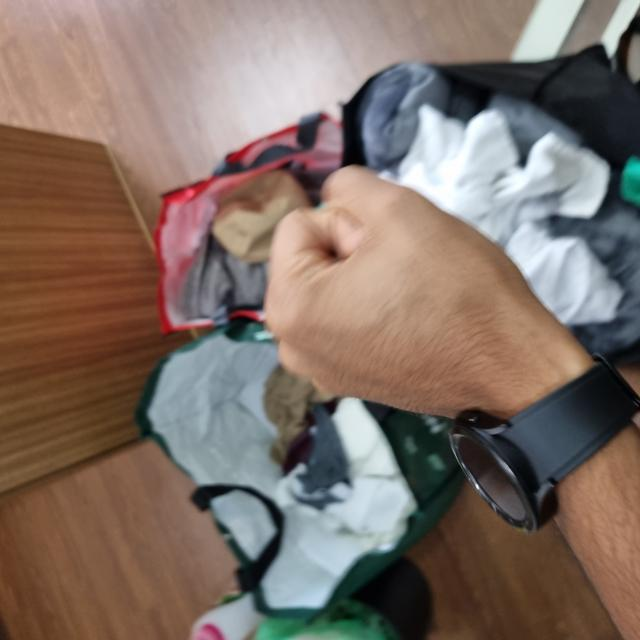Rock: (223, 260, 470, 559)
